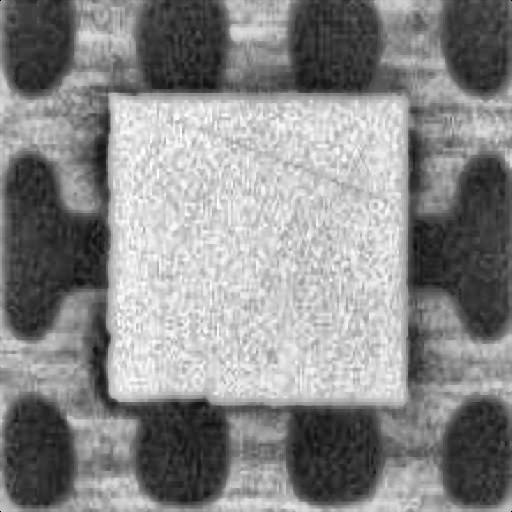DIE_CRACK: (251, 76, 512, 130)
